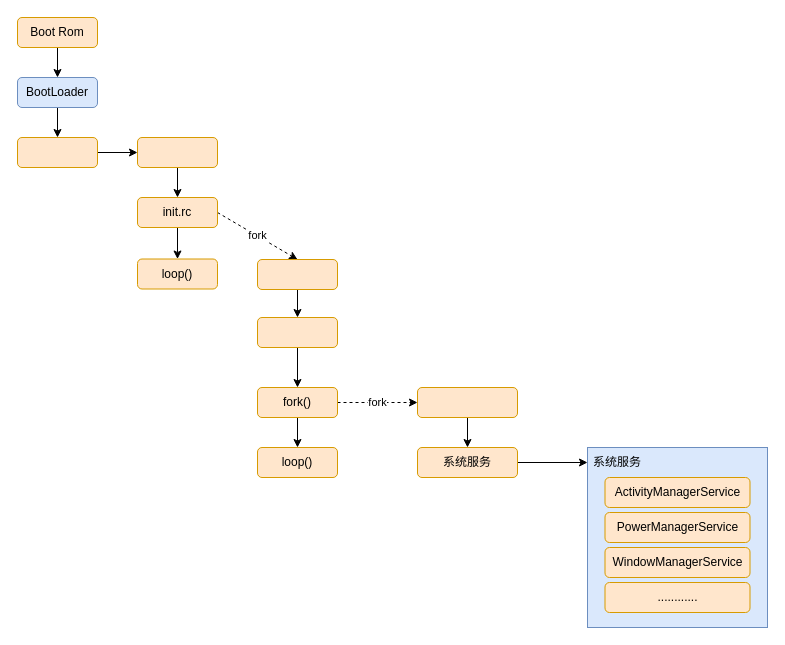
This 785x645 diagram has some shape labels left out. The box of each missing label's shape, as (x1, y1, x2, y2) in pixels:
init: (136, 136, 218, 168)
JVM: (256, 316, 338, 348)
Kernel: (16, 136, 98, 168)
system_server: (416, 386, 518, 418)
Zygote: (256, 258, 338, 290)
